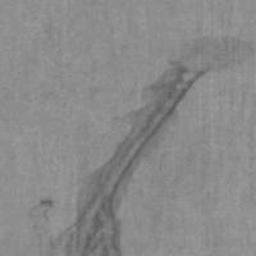Water spot: (27, 33, 256, 256)
